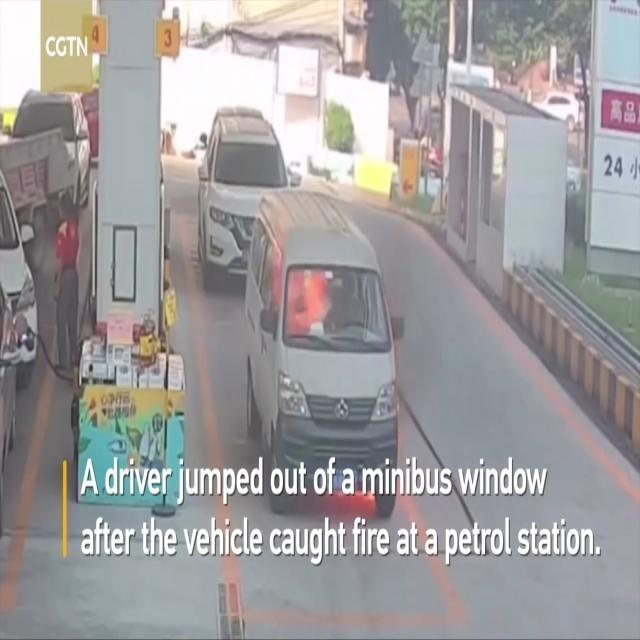fire: (281, 262, 330, 342), (305, 488, 377, 514)
